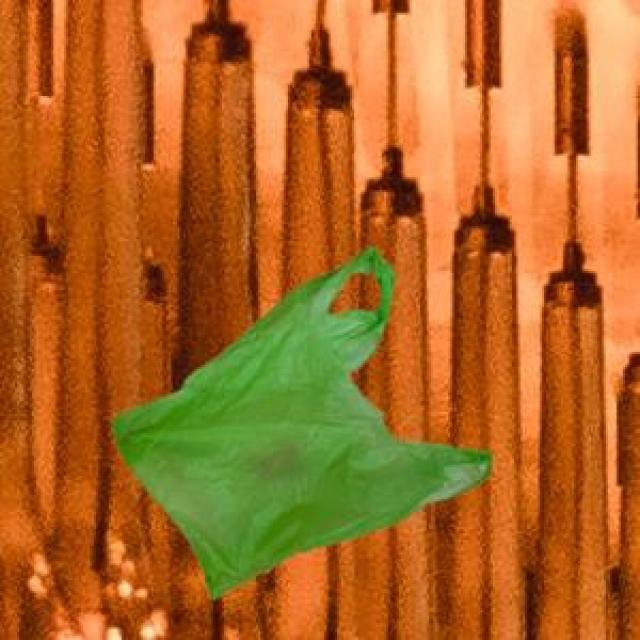waste: (114, 248, 490, 596)
